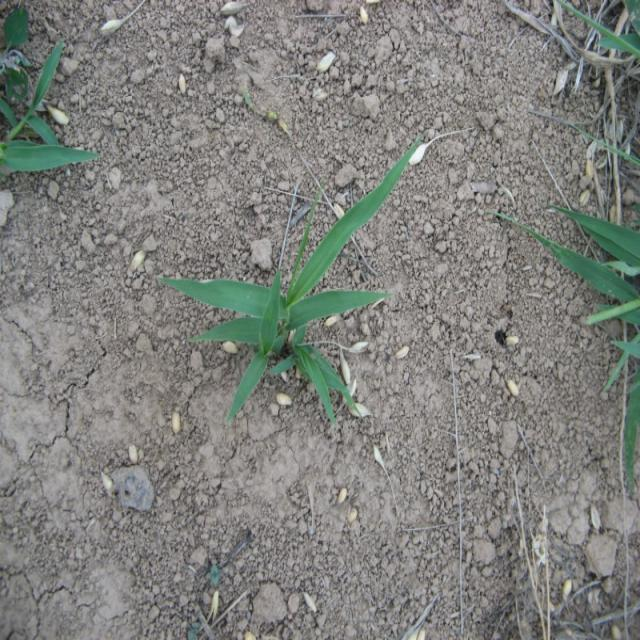bg: (160, 144, 417, 424)
